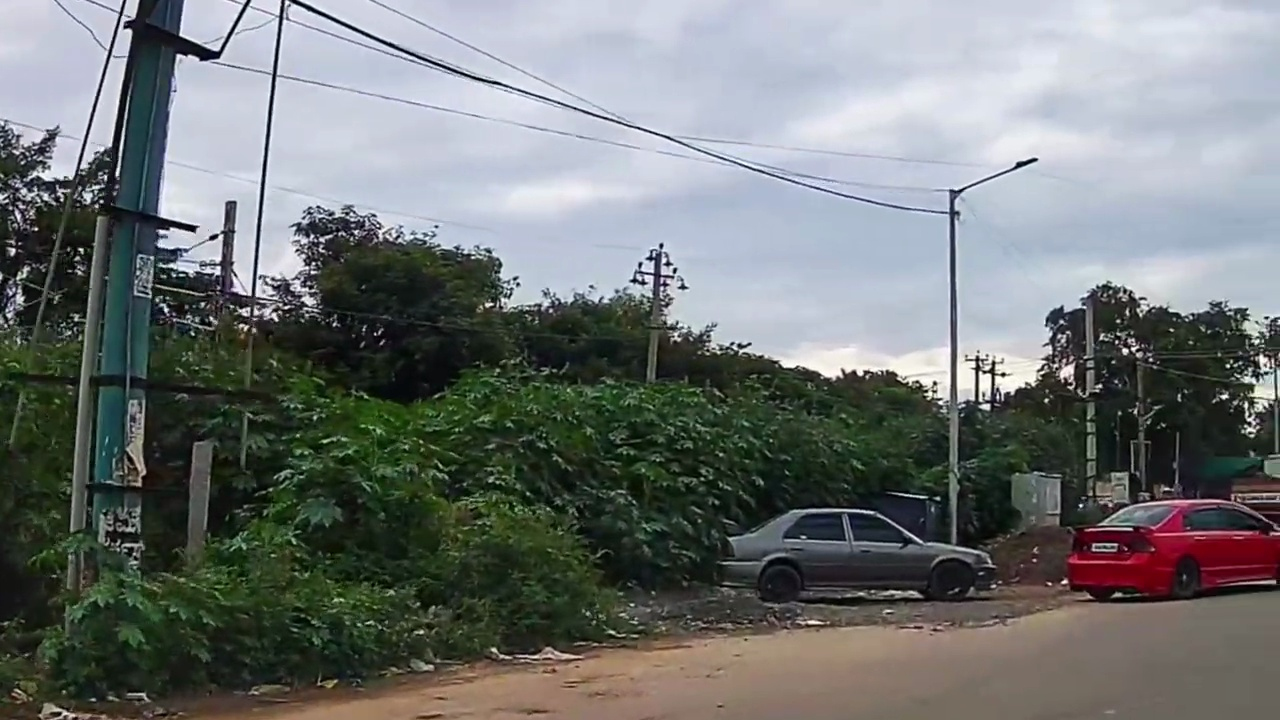garbage: (512, 643, 580, 672)
